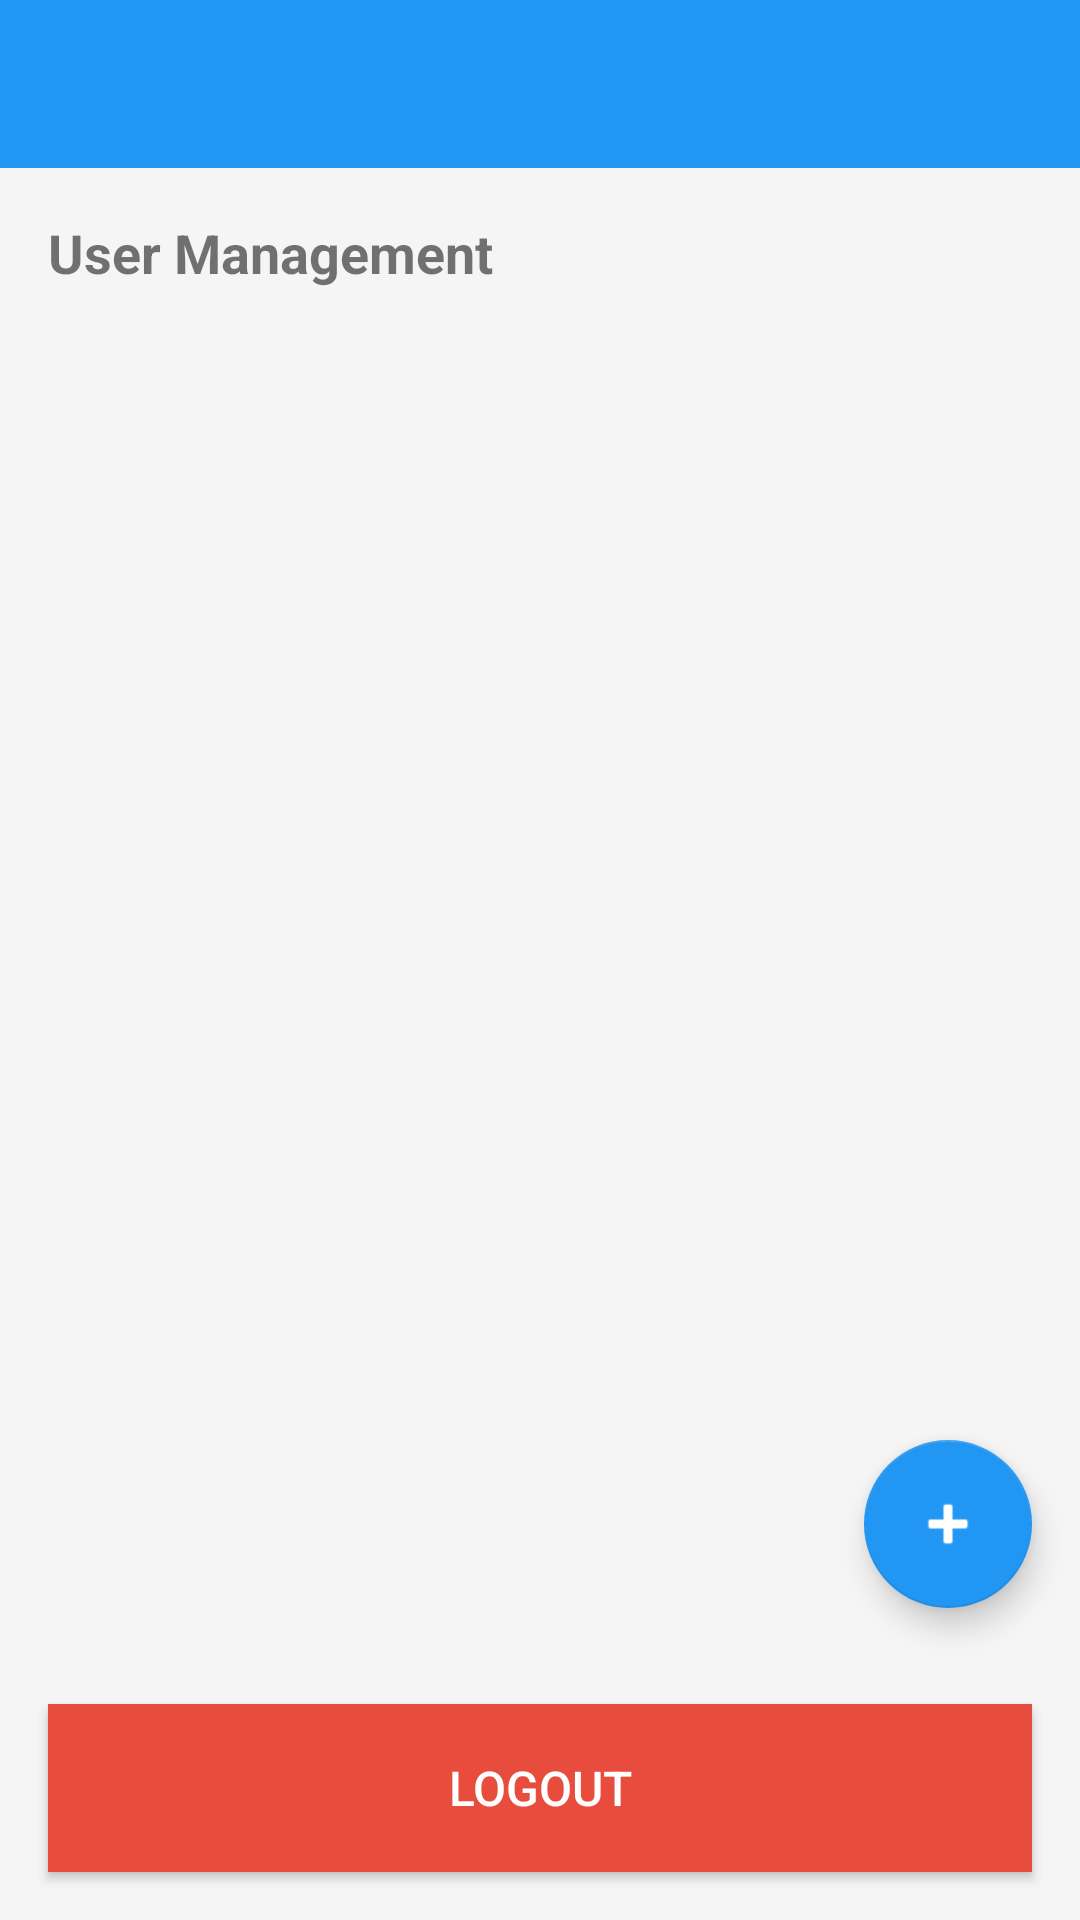

Screen size 1080x1920. Icon name, then its box in pixels as (x1, y1, x2, y2):
add: (864, 1440, 1032, 1608)
